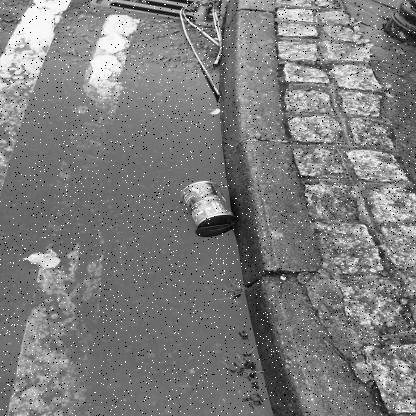metal: (180, 180, 236, 234)
